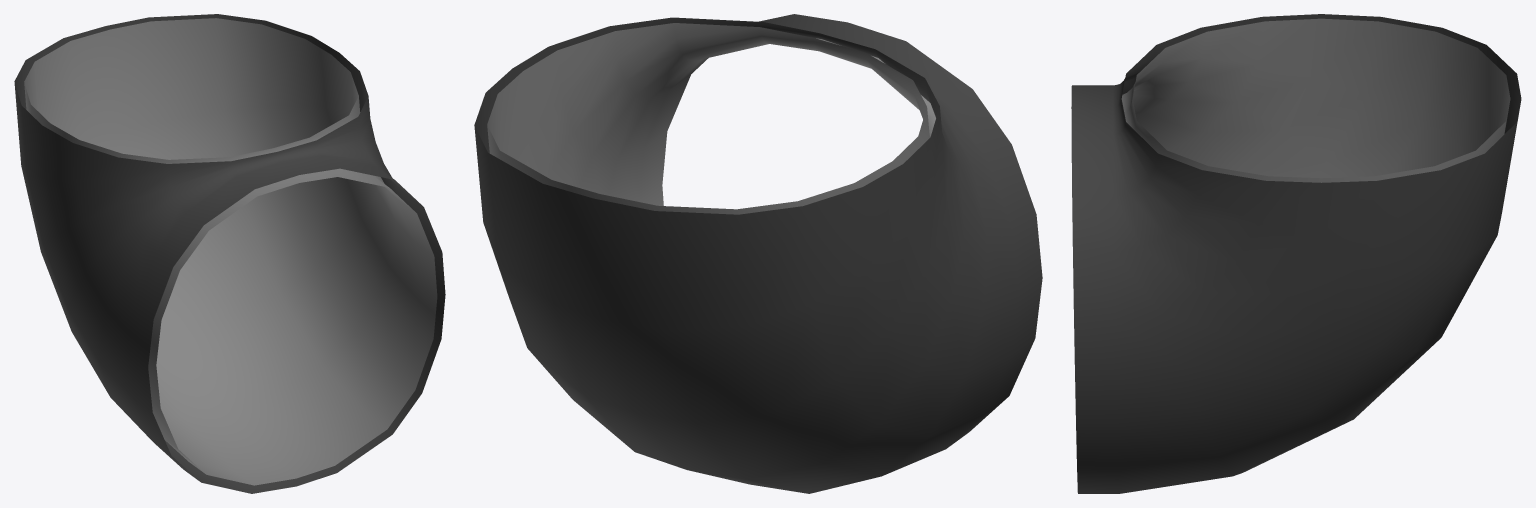
Rendered from Japan_Road_Tunnel_Corner.FBX.
The picture shows the model from 3 angles, left to right: view 1: azimuth 30°, elevation 25°; view 2: azimuth 150°, elevation 25°; view 3: azimuth 270°, elevation 25°; orthographic projection. The views are drawn at different scales.
Visible parts, largest first — view 1: Object037; view 2: Object037; view 3: Object037.
Boxes of the visible parts, left/top/right/bottom form: Object037: left=14, top=14, right=445, bottom=493; Object037: left=474, top=14, right=1042, bottom=493; Object037: left=1071, top=14, right=1521, bottom=493.
Size of the model in its own units: 535 by 553 by 603.
